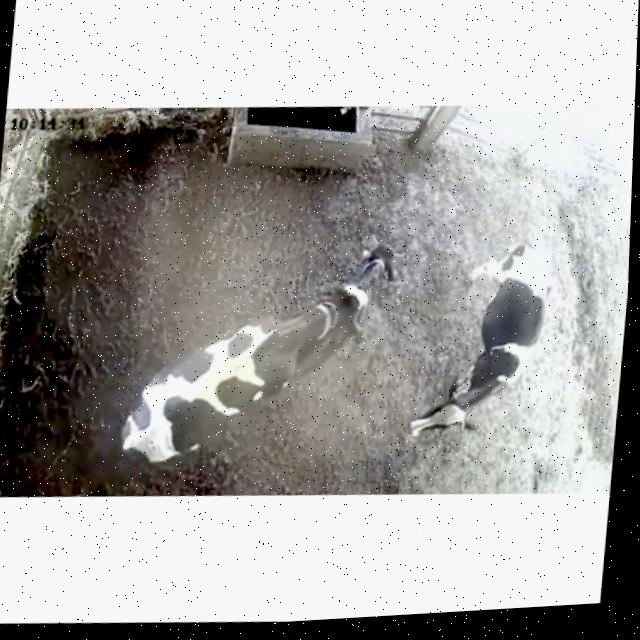ride: (87, 267, 378, 485)
